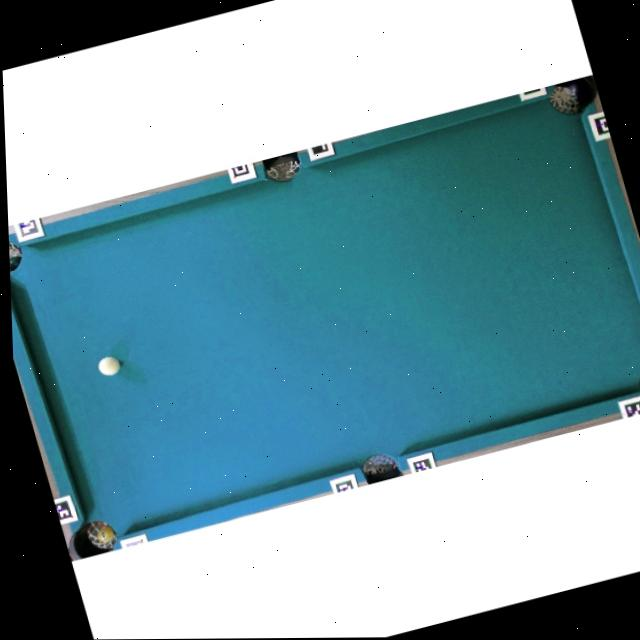cue ball: (95, 352, 124, 378)
